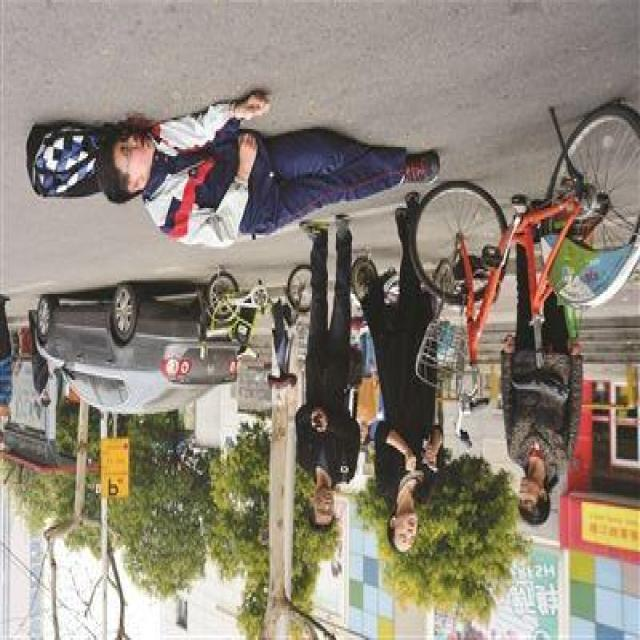nofight: (102, 90, 442, 250), (367, 191, 453, 558), (500, 207, 584, 524), (294, 252, 368, 552)
